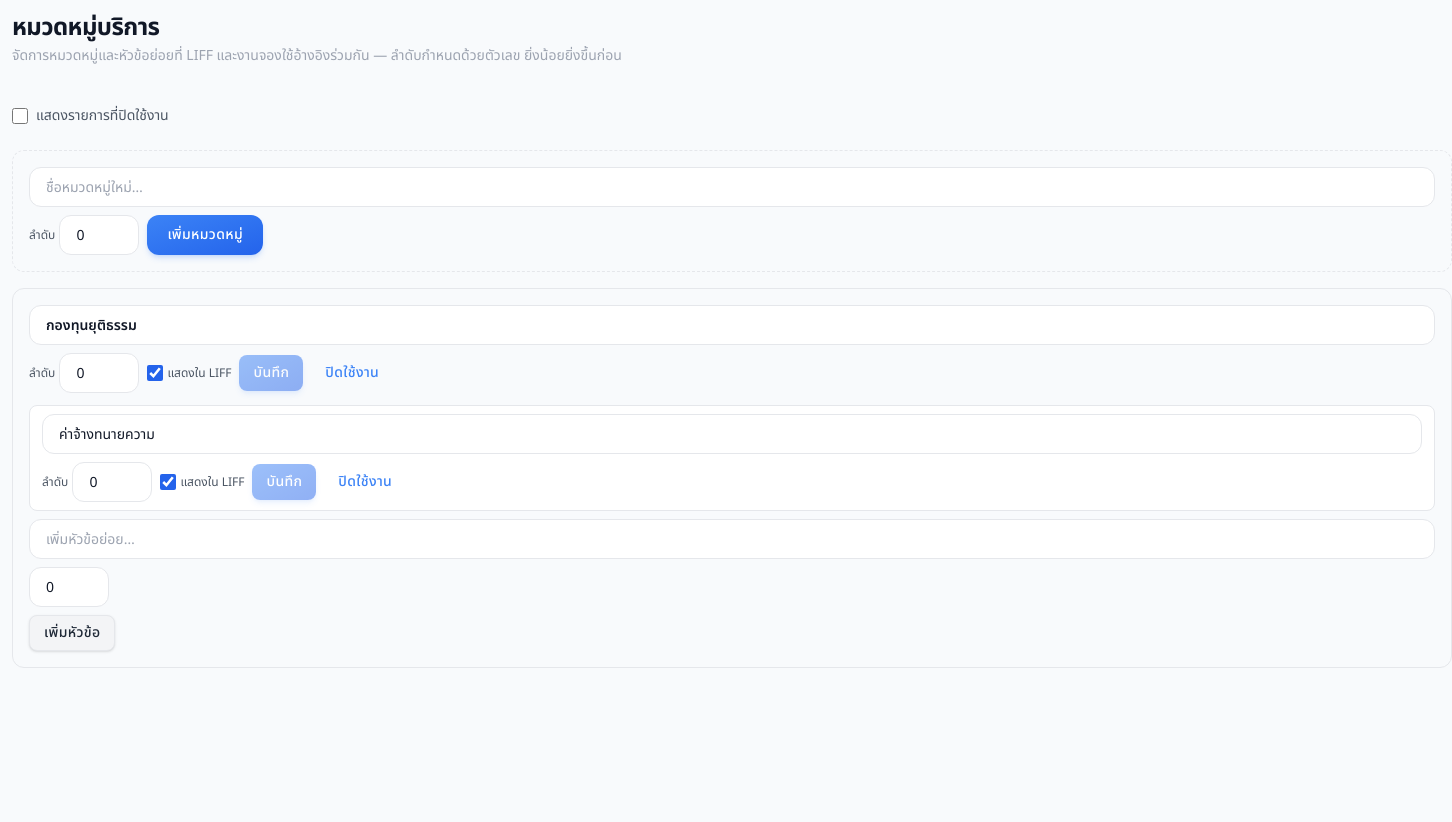
Test: TaxonomyEditor › shows the server duplicate-name detail on 409
Replace the text in the field showing "กองทุนยุติธรรม" with "ชื่อซ้ำ": (732,325) [29,305,1435,345]
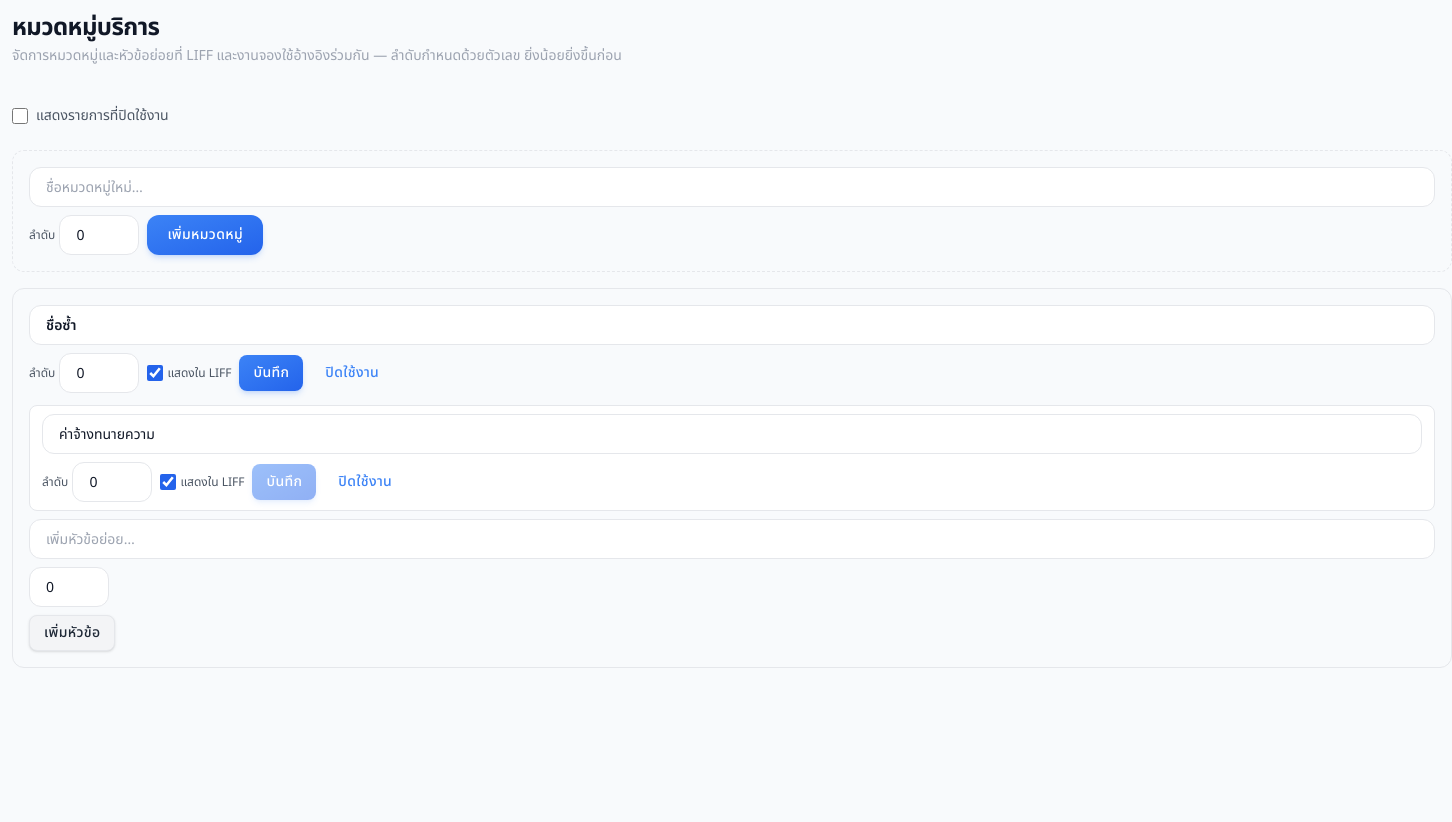
Click the 1st button "บันทึก": (271,373) [240,355,303,391]
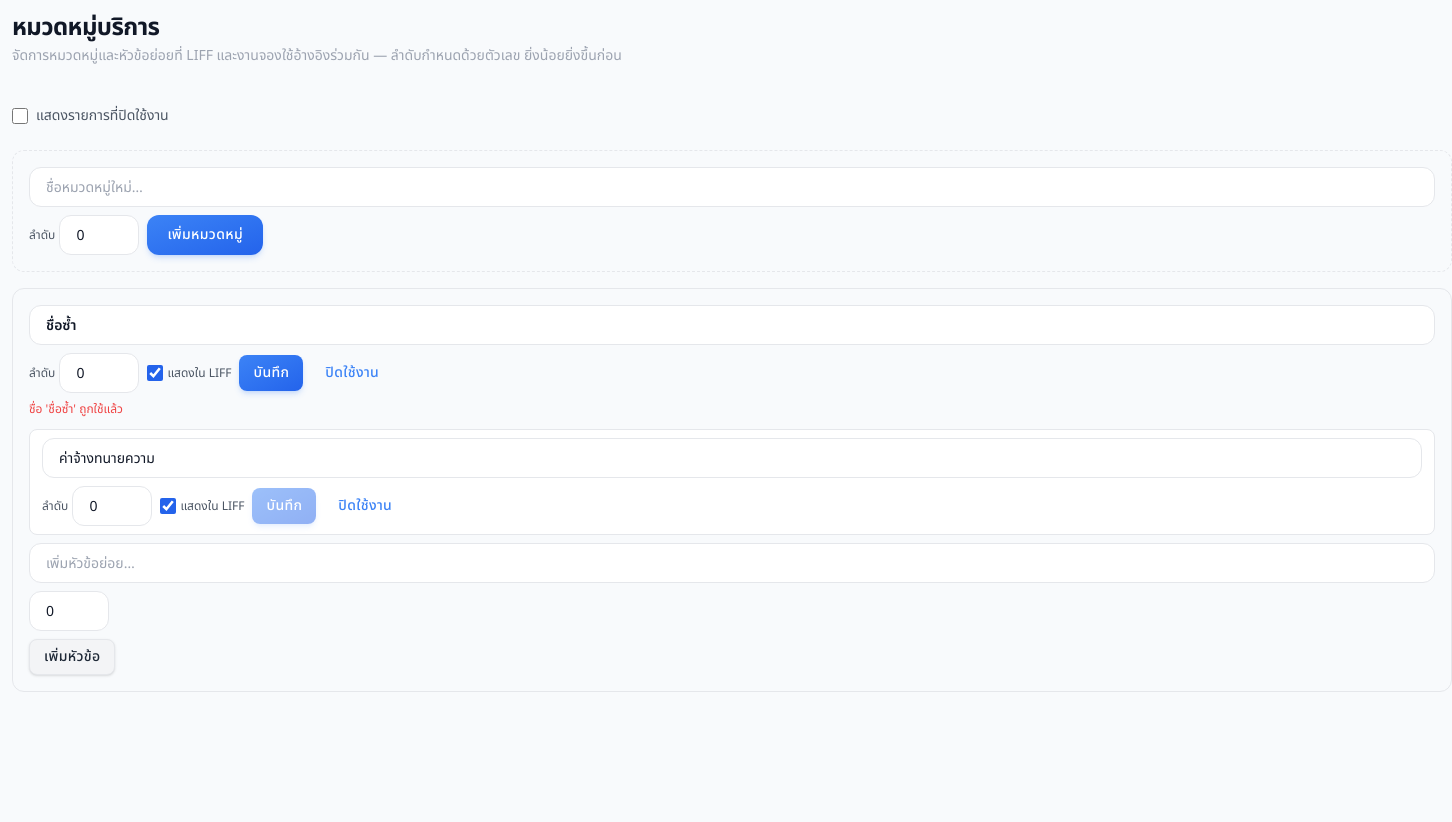
Expected: the text "ชื่อ 'ชื่อซ้ำ' ถูกใช้แล้ว" is shown, [29,400,123,418]
